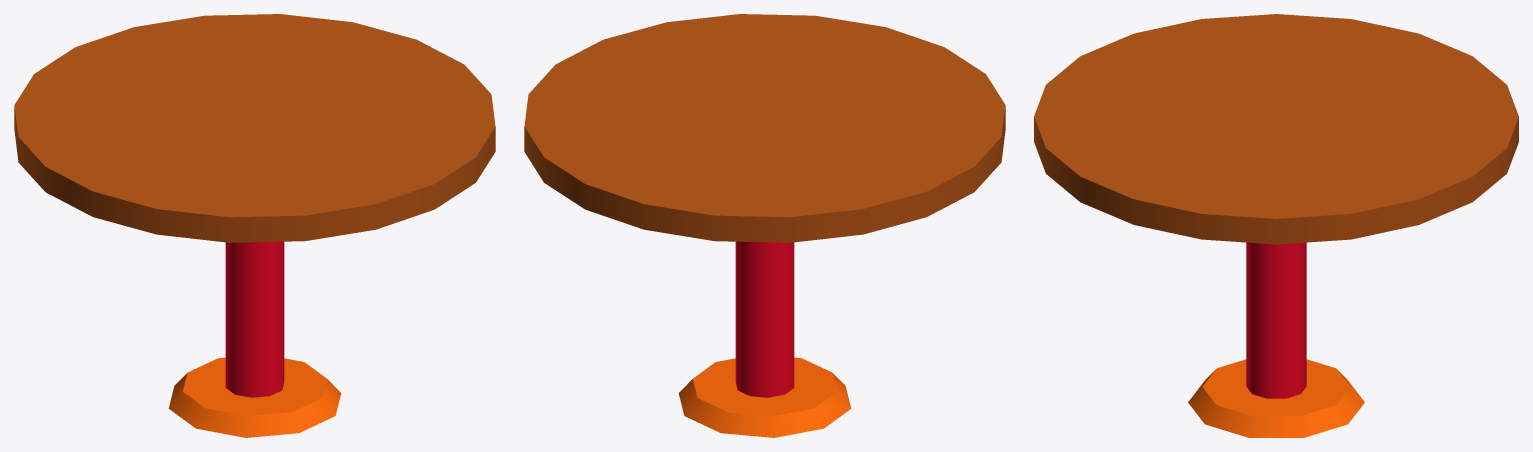
Rendered from coffe_table_05.fbx.
The picture shows the model from 3 angles, left to right: view 1: azimuth 30°, elevation 25°; view 2: azimuth 150°, elevation 25°; view 3: azimuth 270°, elevation 25°; orthographic projection.
Visible parts, largest first — view 1: coffe_table_05; view 2: coffe_table_05; view 3: coffe_table_05.
Part boxes in pixels (x1,y1,x2,y2): coffe_table_05: (14, 14, 495, 437); coffe_table_05: (524, 14, 1005, 437); coffe_table_05: (1034, 14, 1518, 437).
Bounding box in the file's own units: 1.2 × 0.7808 × 1.2.
